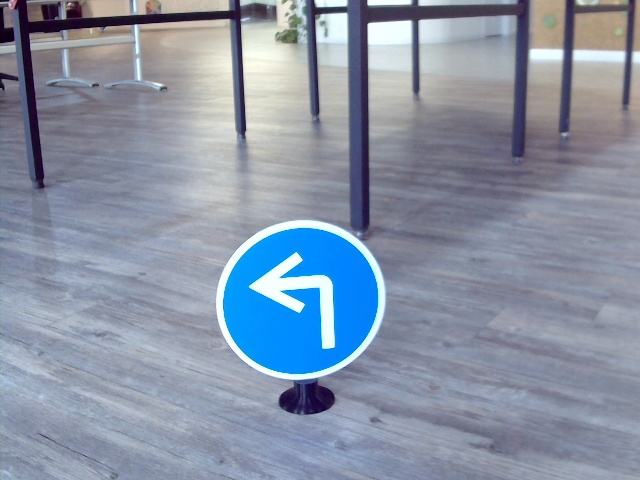turn_left: (243, 247, 348, 354)
